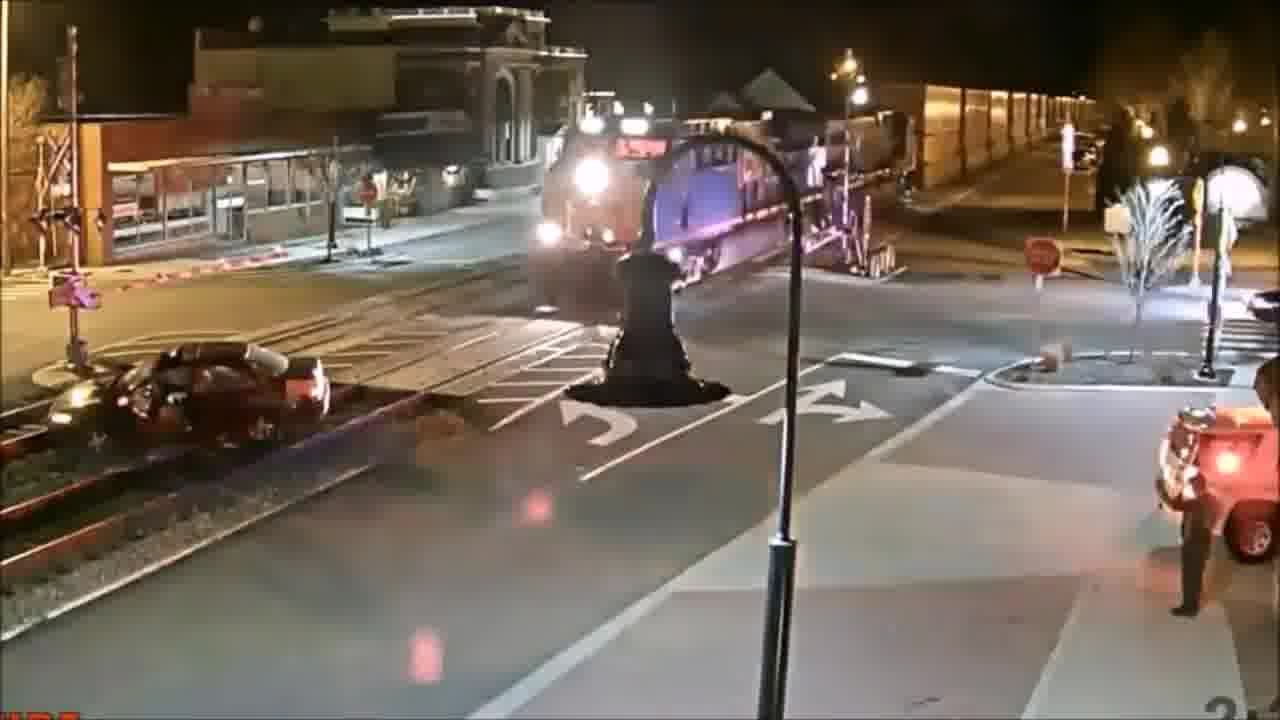crossing railway track: (38, 339, 338, 461)
